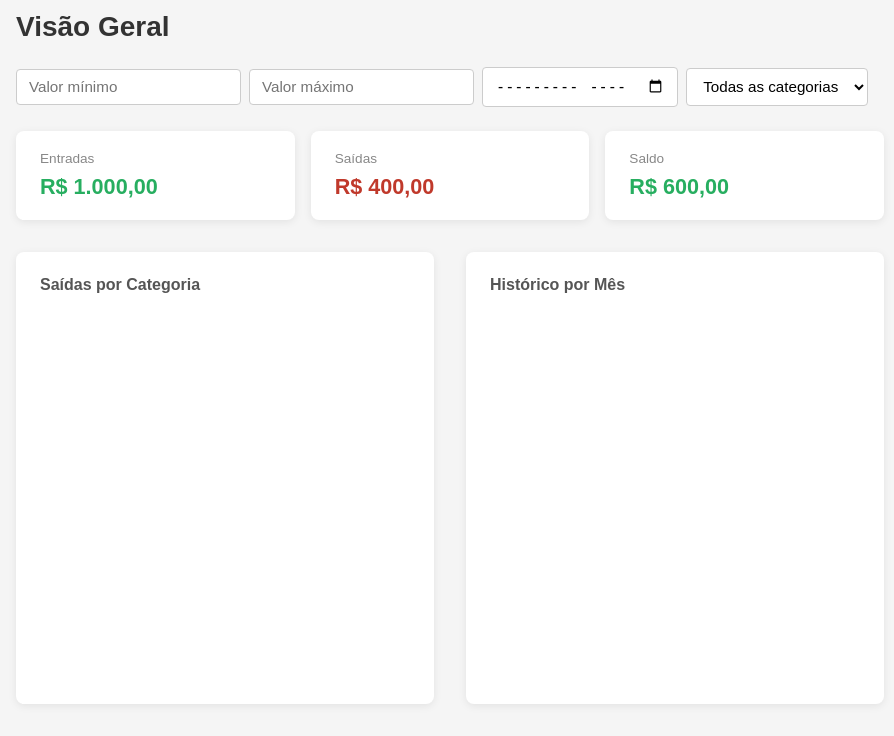
Scenario: VisaoGeral (integração) › filtra por mês e permite limpar os filtros
expect the text "R$ 1.000,00" is shown: met, box 40,174 -> 158,199
In the field: (580, 87) 482,67 -> 678,107, type "2099-12"
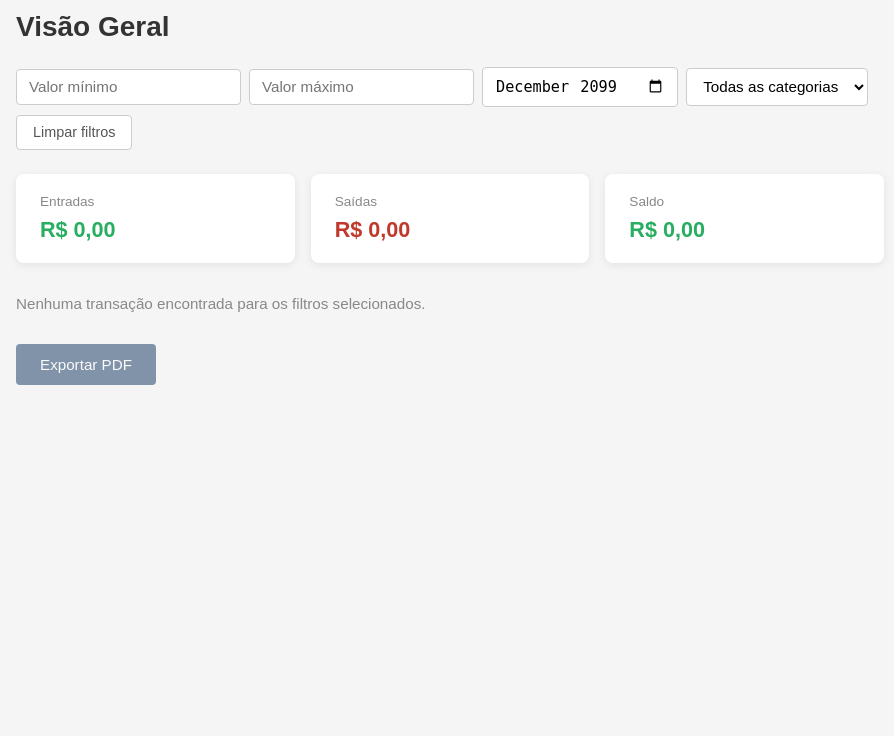
expect the text "Nenhuma transação encontrada para os filtros selecionados." is shown: met, box 16,295 -> 426,312
Click the button "Limpar filtros": (74, 132) 16,115 -> 132,150
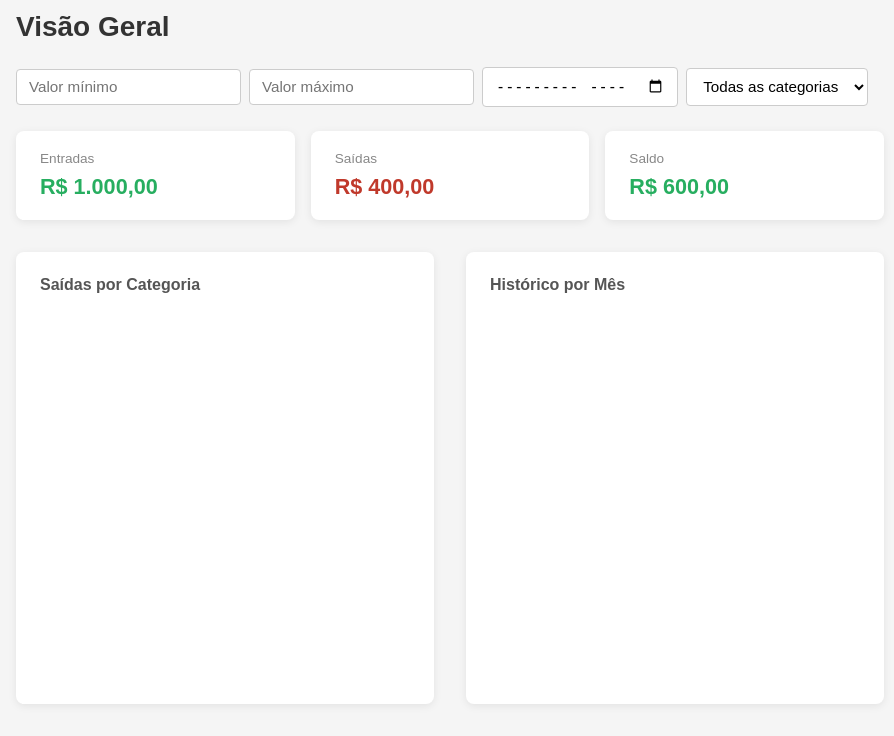
expect the text "R$ 1.000,00" is shown: met, box 40,174 -> 158,199
